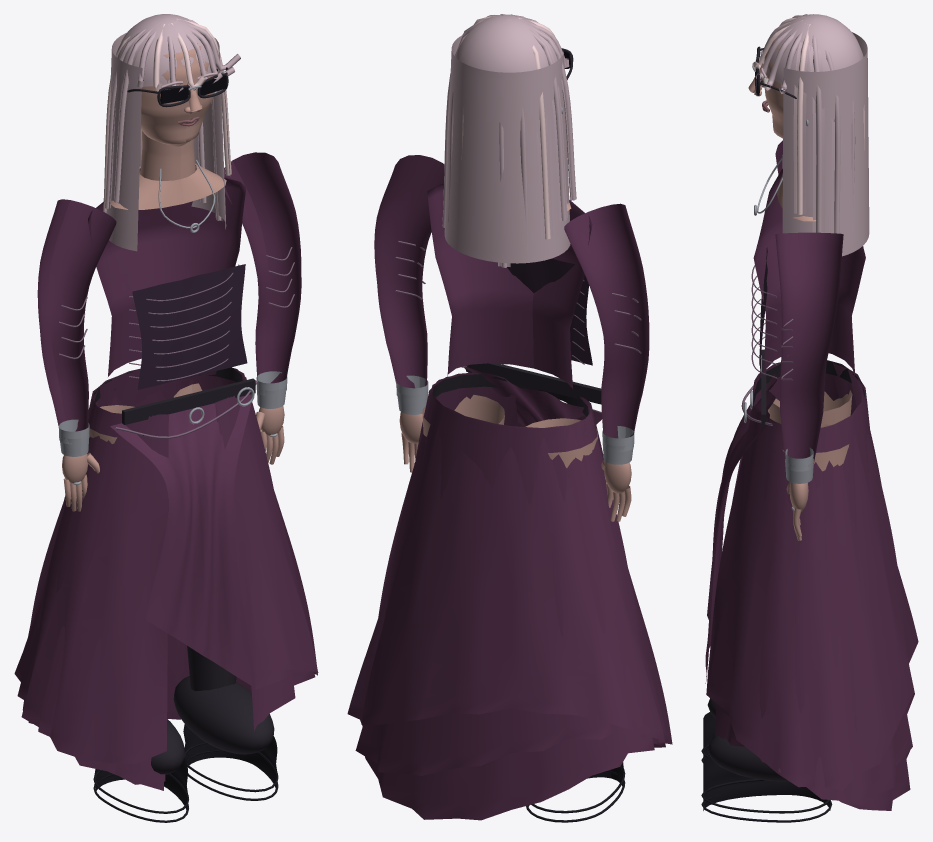
File: look-4-crowd.glb
The picture shows the model from 3 angles, left to right: view 1: azimuth 30°, elevation 25°; view 2: azimuth 150°, elevation 25°; view 3: azimuth 270°, elevation 25°; orthographic projection. The views are drawn at different scales.
Parts seen in each view (by area): view 1: look-4-crowd, arm-0, arm-1, leg-1, leg-0; view 2: look-4-crowd, arm-0, arm-1, leg-0, leg-1; view 3: look-4-crowd, arm-1, leg-1, leg-0.
Boxes of the visible parts, x1,y1,x2,y2 form: look-4-crowd: [14, 14, 318, 790]; arm-0: [37, 199, 116, 511]; arm-1: [224, 152, 301, 464]; leg-1: [173, 383, 278, 800]; leg-0: [89, 405, 188, 822]; look-4-crowd: [347, 14, 672, 820]; arm-0: [564, 203, 649, 521]; arm-1: [374, 155, 444, 472]; leg-0: [525, 418, 625, 822]; leg-1: [422, 395, 504, 436]; look-4-crowd: [705, 14, 918, 810]; arm-1: [775, 232, 843, 540]; leg-1: [701, 424, 849, 822]; leg-0: [701, 390, 852, 762].
Size of the model in its own units: 0.8236 by 2.04 by 0.522.
